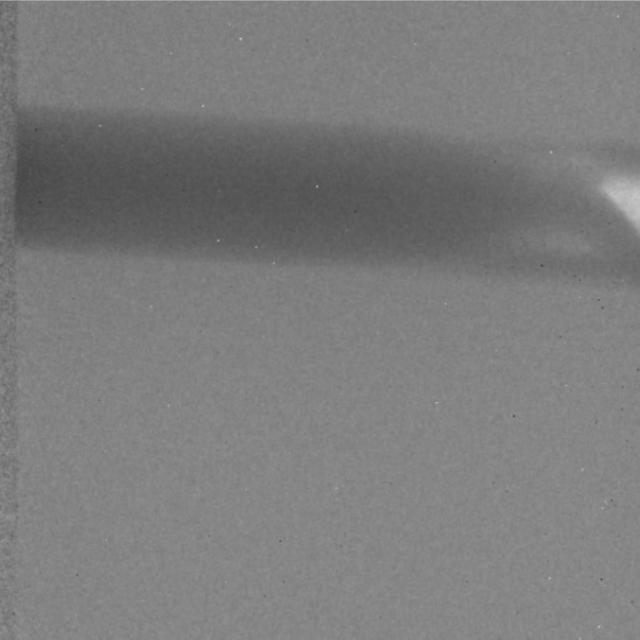broken arc: (596, 170, 638, 231)
